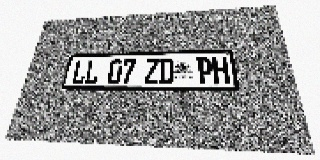0: (107, 59, 123, 84)
7: (120, 59, 136, 84)
D: (159, 58, 173, 84)
H: (212, 56, 230, 84)
L: (71, 60, 88, 85), (84, 60, 101, 85)
P: (197, 57, 213, 84)
Z: (144, 58, 159, 84)
